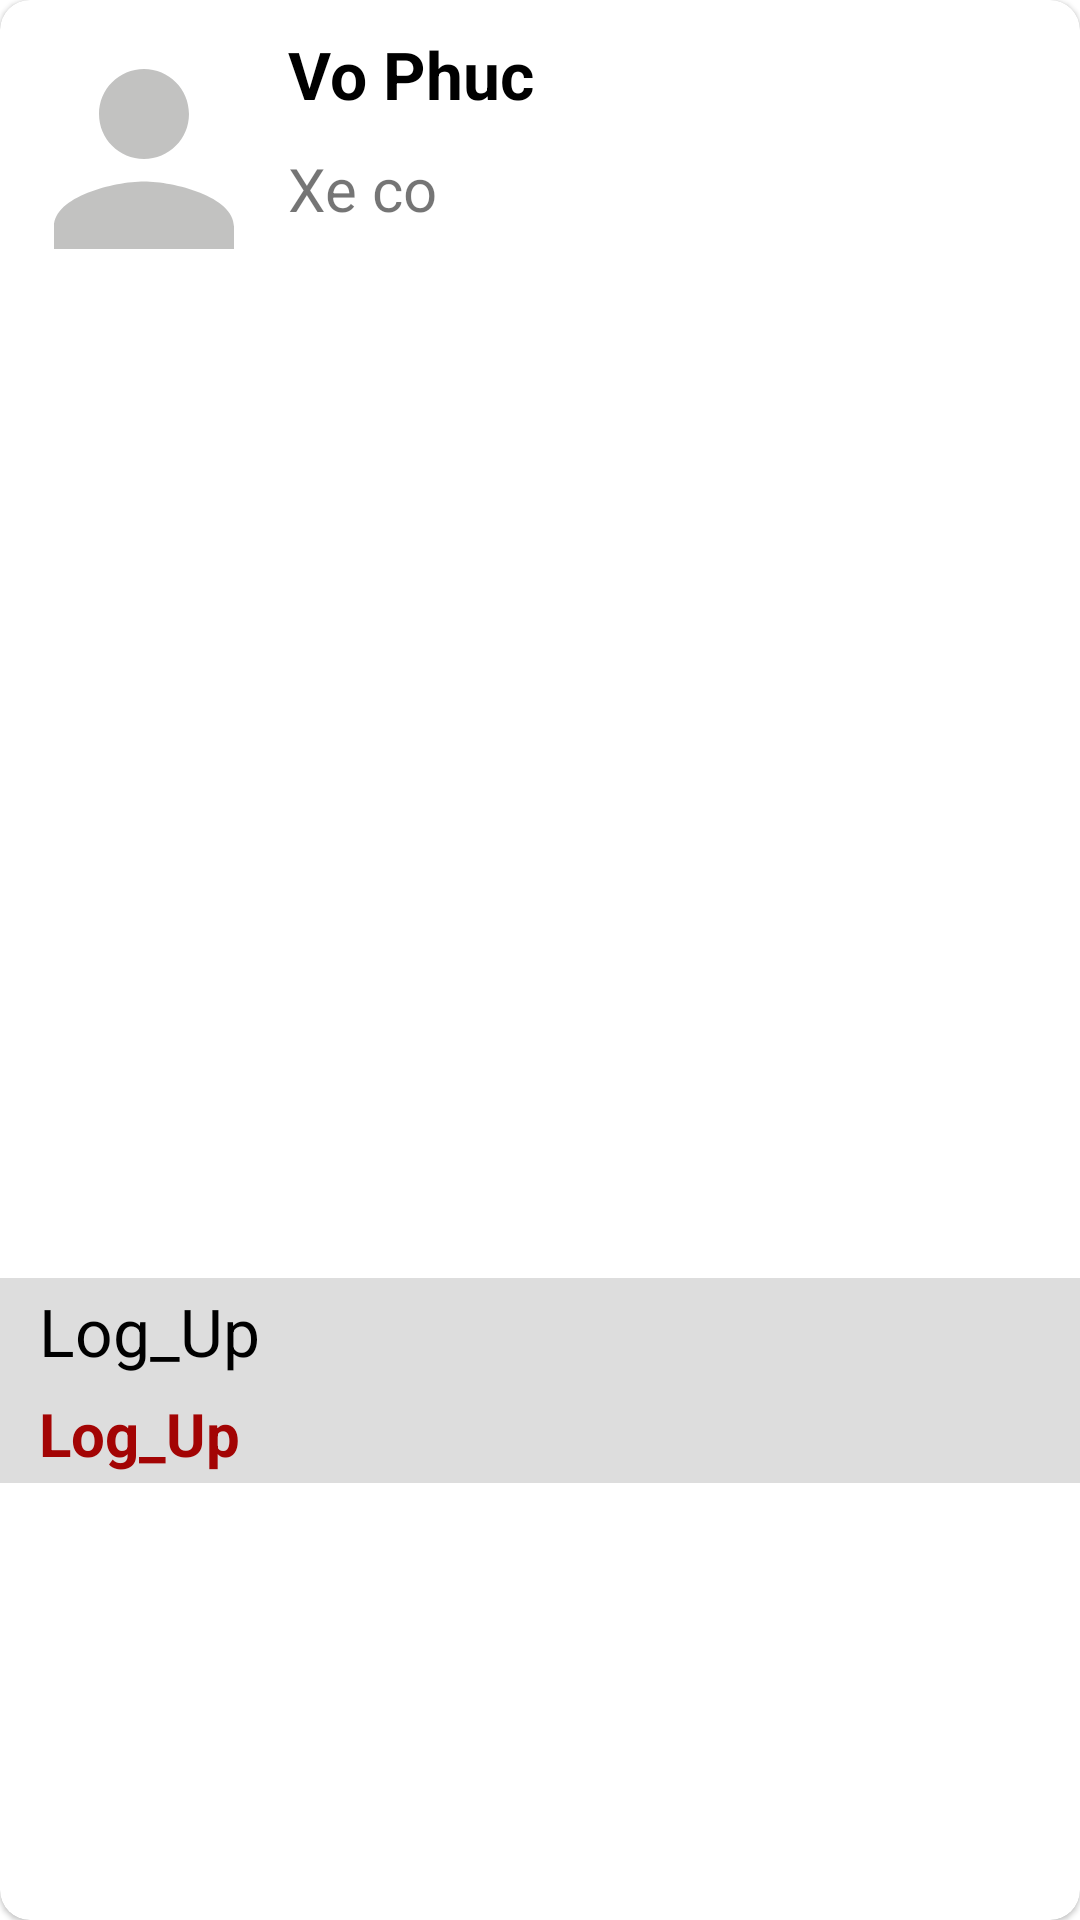

Where icons sit on this 1080 × 1920 app screen, as box(x1, y1, x2, y2):
person: box(54, 69, 234, 249)
